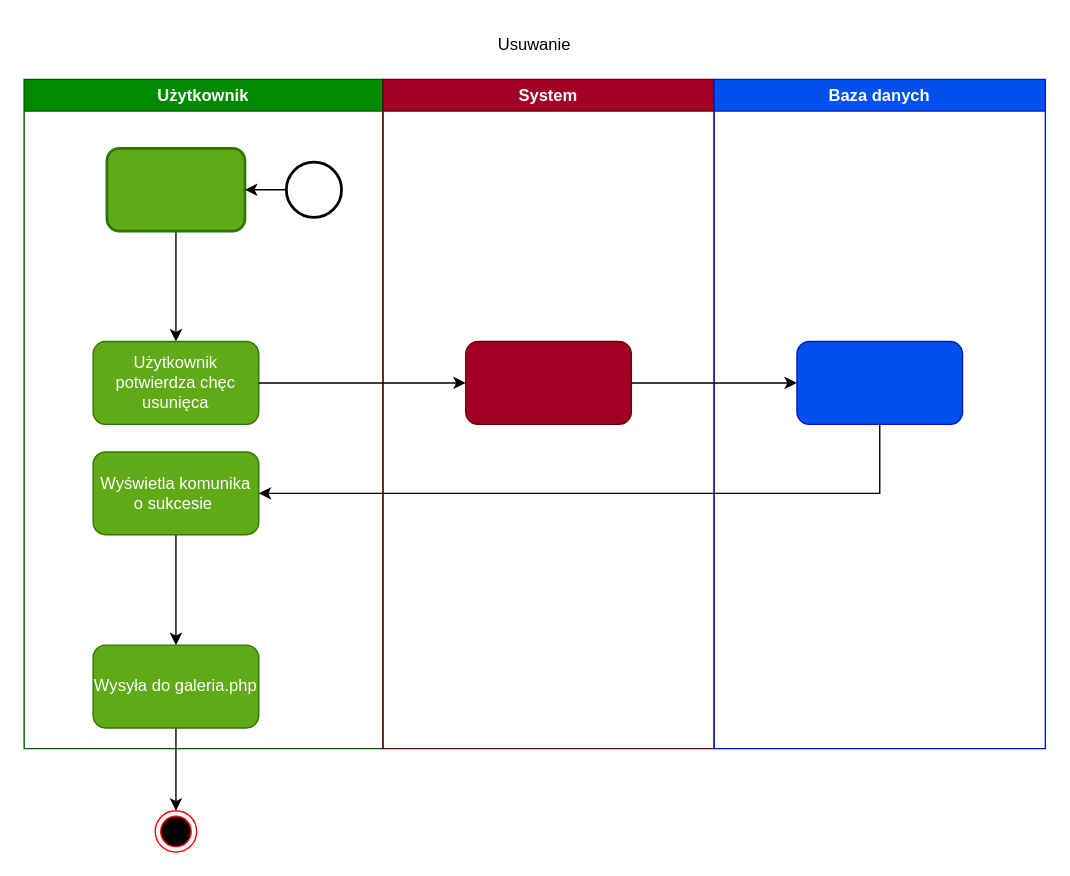
Image size: 1070x876. Some labels were removed from this diagram. The shapes that lost their labels are listed below. From the top down, each one's centre as x and y in pixels, then its label:
point 175,189: Użytkownik wybiera opcje usuwania prac
point 547,382: System wysyła dane do bazy danych które mają zostać usunięte
point 879,382: Usuwa wskazane dane
